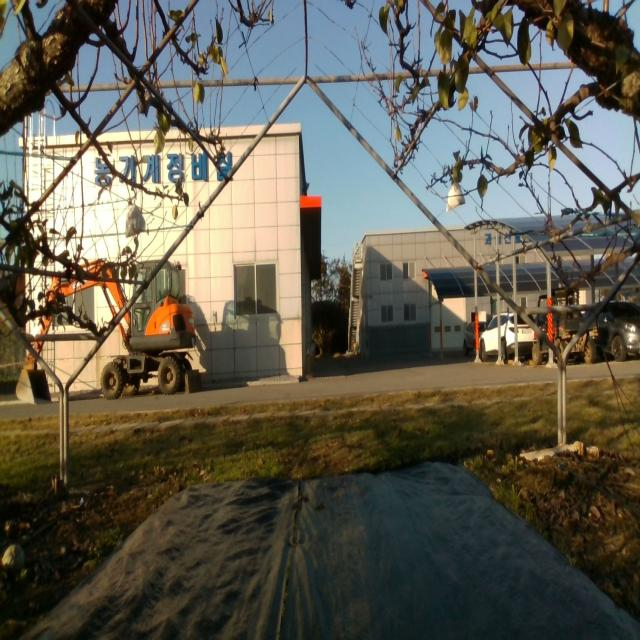pearbags: (124, 205, 147, 236), (446, 182, 465, 212)
